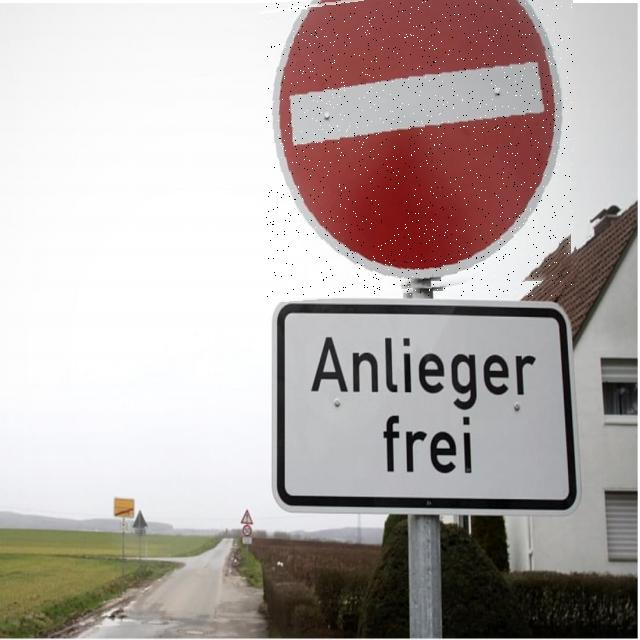no entry: (265, 0, 573, 297)
